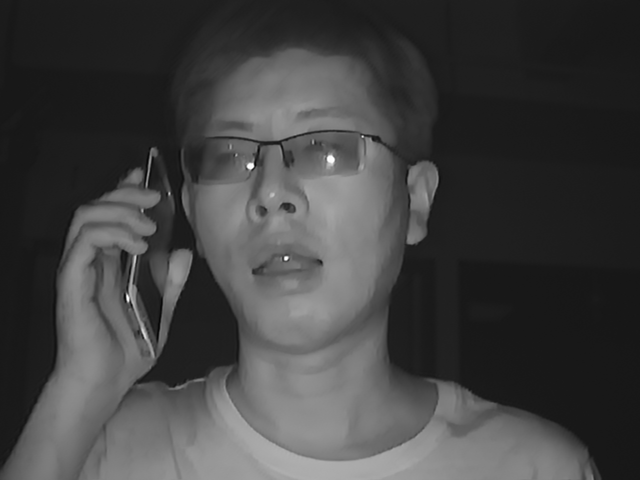hand: (53, 167, 192, 366)
